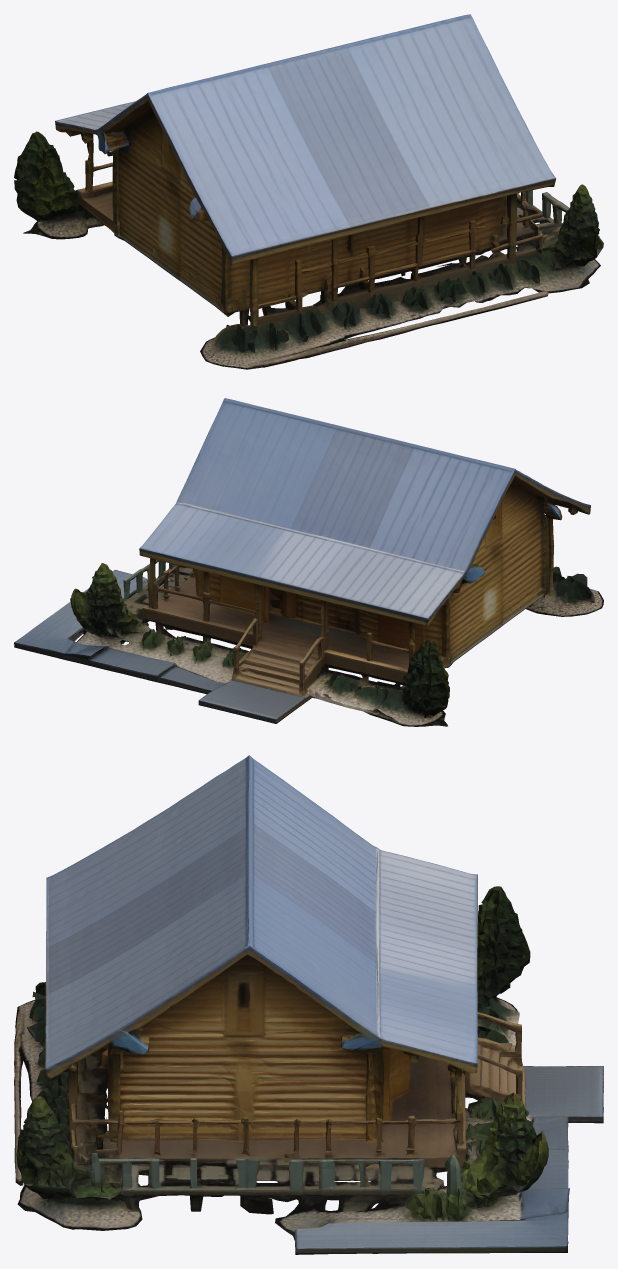
Rendered from CabinAcrossGirlsBunker.glb.
The picture shows the model from 3 angles, top to bottom: view 1: azimuth 30°, elevation 25°; view 2: azimuth 150°, elevation 25°; view 3: azimuth 270°, elevation 25°; orthographic projection. The views are drawn at different scales.
Visible parts, largest first — view 1: world; view 2: world; view 3: world.
Part boxes in pixels (left/top/right/bottom): world: left=14, top=14, right=603, bottom=369; world: left=14, top=398, right=603, bottom=726; world: left=14, top=755, right=603, bottom=1254.
Bounding box in the file's own units: 0.9941 × 0.4504 × 0.9277.
Materials: 1 (1 with a texture image).
